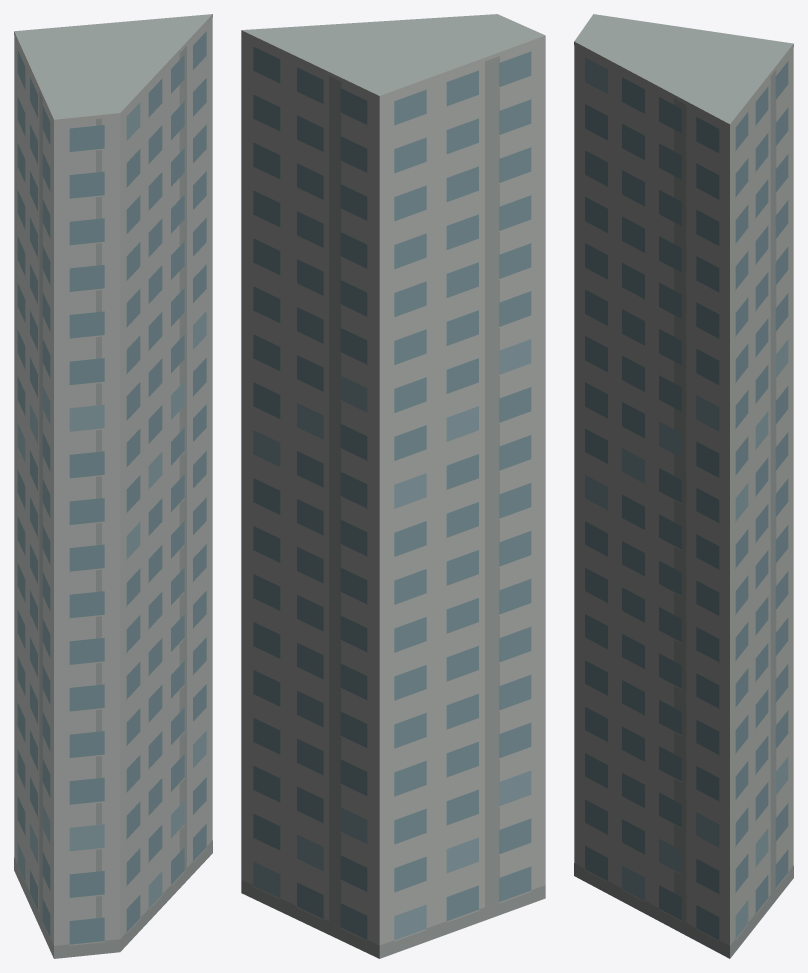
Rendered from survey-upis-32818824.glb.
3 views of the same model, side by side, from view 1: azimuth 30°, elevation 25°; view 2: azimuth 150°, elevation 25°; view 3: azimuth 270°, elevation 25° (orthographic). The views are drawn at different scales.
Visible parts, largest first — view 1: survey-upis-32818824.tmp; view 2: survey-upis-32818824.tmp; view 3: survey-upis-32818824.tmp.
Boxes of the visible parts, left/top/right/bottom form: survey-upis-32818824.tmp: left=14, top=14, right=212, bottom=958; survey-upis-32818824.tmp: left=241, top=14, right=545, bottom=958; survey-upis-32818824.tmp: left=574, top=14, right=793, bottom=958.
Size of the model in its own units: 15.58 by 54.9 by 13.1.
